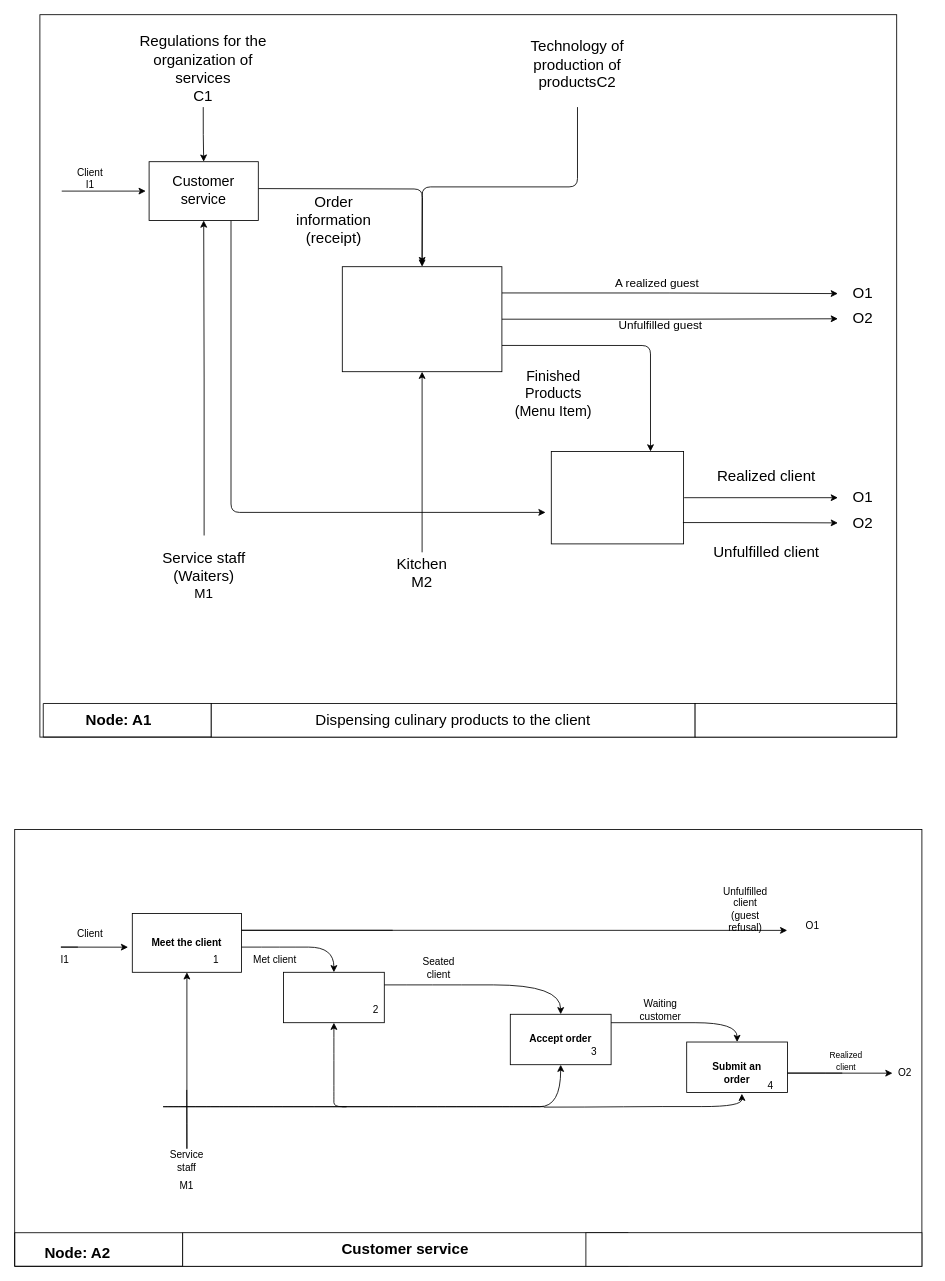
Image size: 945x1281. Some labels were removed from this diagram. Each missing label, with the box of its shape:
Sale of purchased goods: (550, 451, 684, 544)
Sales and production of products: (341, 266, 502, 372)
Show to the table: (283, 971, 384, 1023)
